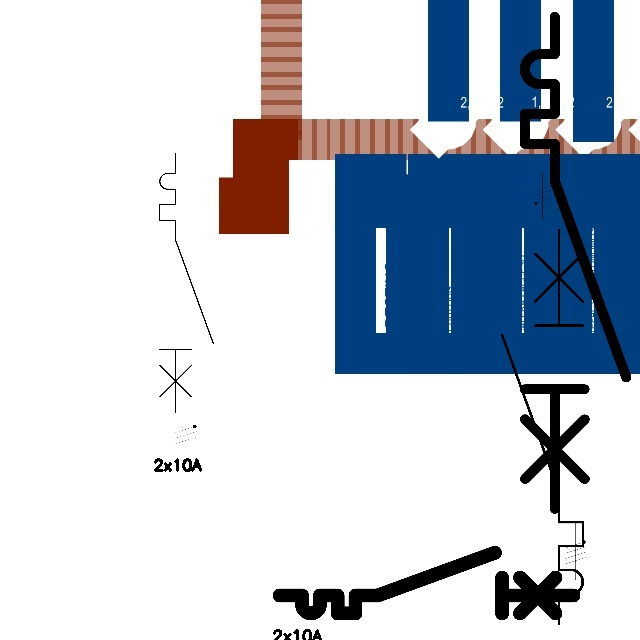interruptor_termomagnetico: (512, 4, 638, 521), (492, 219, 593, 633), (272, 545, 581, 621), (153, 147, 219, 420)
